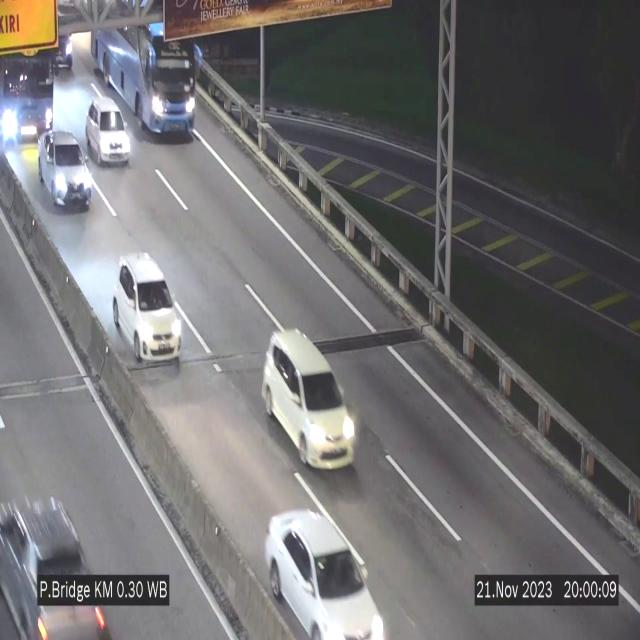Bus: (93, 22, 195, 135), (0, 36, 58, 166)
Car: (0, 480, 112, 640), (266, 512, 386, 640), (262, 330, 356, 468), (112, 253, 182, 368), (39, 133, 93, 208), (85, 95, 130, 165), (53, 20, 77, 76)
